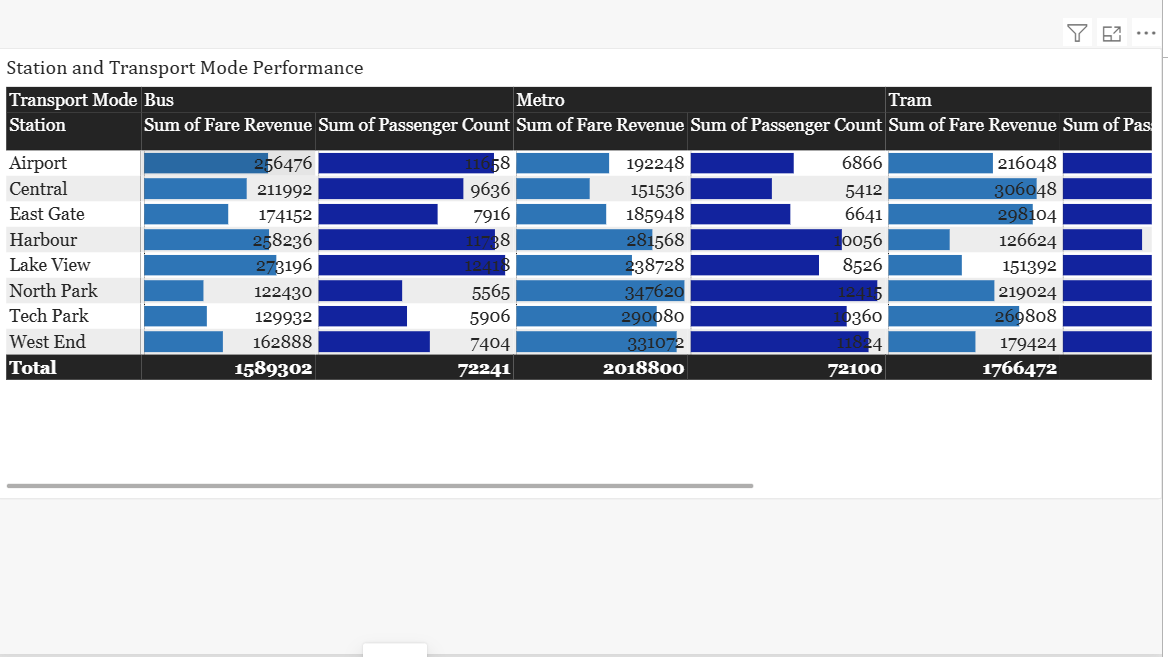

Layout of this report page (visuals, bound fields, positions):
{"tool":"powerbi","page":{"name":"Page 3","canvas":[1920,1080],"ordinal":2},"visuals":[{"type":"pivotTable","title":"Station and Transport Mode Performance","fields":{"Columns":["Transport Data.Transport Mode"],"Rows":["Transport Data.Station"],"Values":["Sum(Transport Data.Fare Revenue)","Sum(Transport Data.Passenger Count)"]},"box":[0,82.3,1920.4,743.1],"z":0}]}

Visuals, with their boxes on the page's 1920x1080 design canvas (x1, y1, x2, y2). These are canvas units, not pixel positions in the 1168x657 screenshot, which may show the page scaled, cropped or inside an application window:
"Station and Transport Mode Performance" pivotTable: x1=0, y1=82, x2=1920, y2=825
